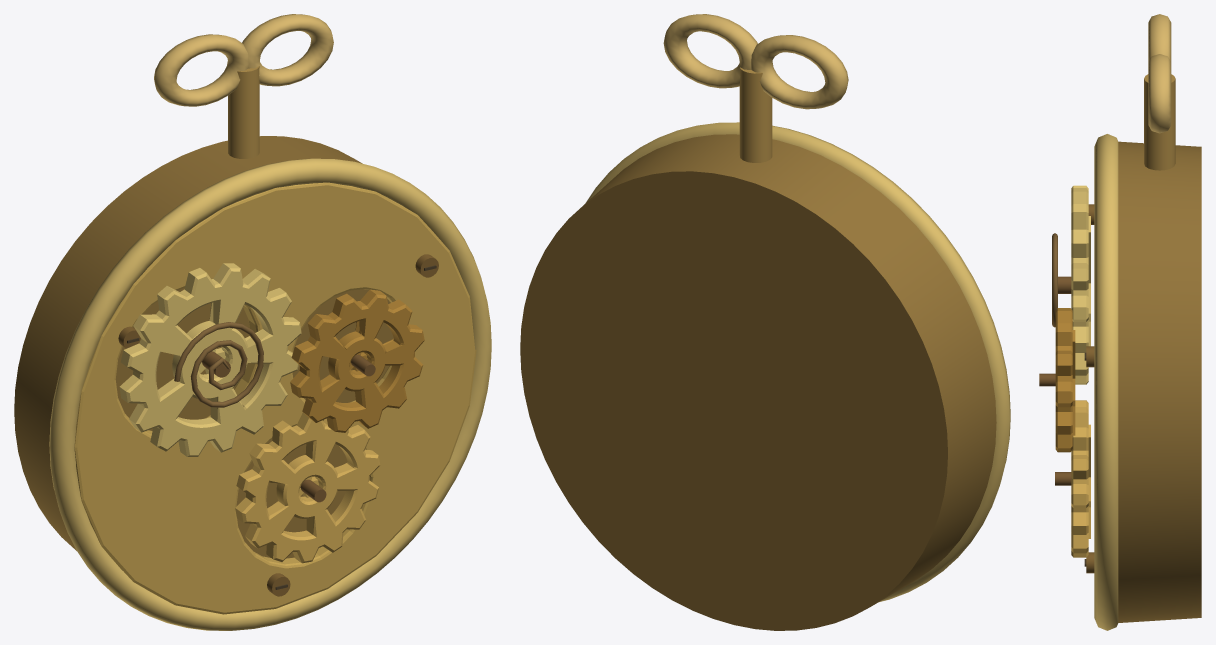
File: props_p6__p6_clock_heart.glb
3 views of the same model, side by side, from view 1: azimuth 30°, elevation 25°; view 2: azimuth 150°, elevation 25°; view 3: azimuth 270°, elevation 25° (orthographic). The views are drawn at different scales.
Visible parts, largest first — view 1: pierced_brass_plate, heart_surfaces (×6), rolled_case_rim, circular_case, winding_stem, mainspring; view 2: circular_case, rolled_case_rim, heart_surfaces, winding_stem; view 3: circular_case, heart_surfaces (×6), rolled_case_rim, winding_stem, mainspring.
Part boxes in pixels (x1,y1,x2,y2): pierced_brass_plate: (74,182,476,614); heart_surfaces (×6): (118,14,438,596); rolled_case_rim: (49,158,491,630); circular_case: (14,136,393,558); winding_stem: (228,66,259,158); mainspring: (174,322,263,407); circular_case: (520,134,996,630); rolled_case_rim: (585,122,1010,601); heart_surfaces: (663,14,848,109); winding_stem: (739,67,772,162); circular_case: (1118,141,1201,622); heart_surfaces (×6): (1039,14,1171,573); rolled_case_rim: (1094,134,1118,630); winding_stem: (1144,74,1175,170); mainspring: (1052,233,1057,327).
Bounding box in the file's own units: 0.095 × 0.1194 × 0.031.
